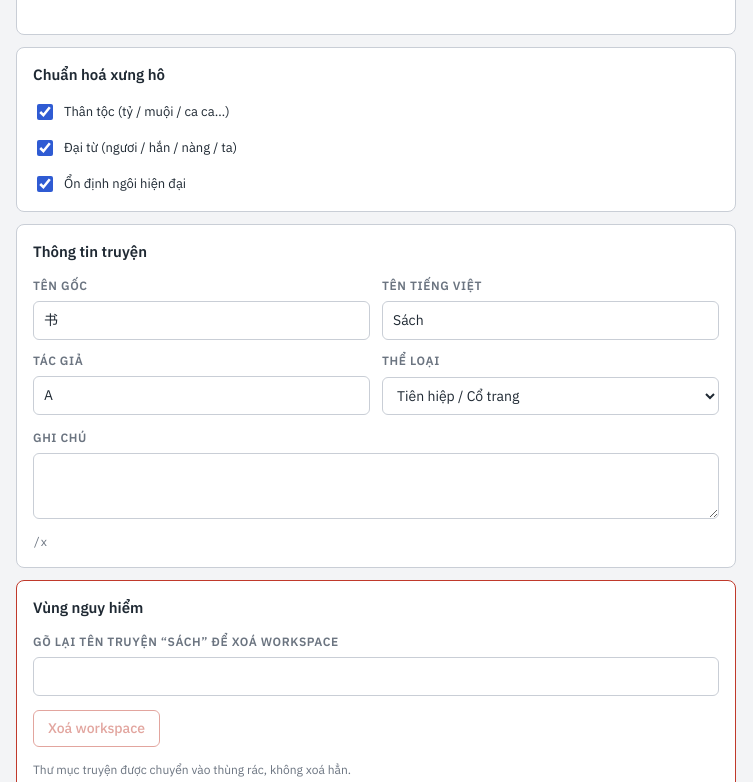
Scenario: đổi thể loại (ảnh hưởng tự chọn route) cũng hiện banner áp lại
(page scrolled)
Select "Đô thị / Hiện đại" in the dropdown labelled "Thể loại": (550, 396) [382, 377, 719, 415]
Wait 500 ms
(page scrolled)
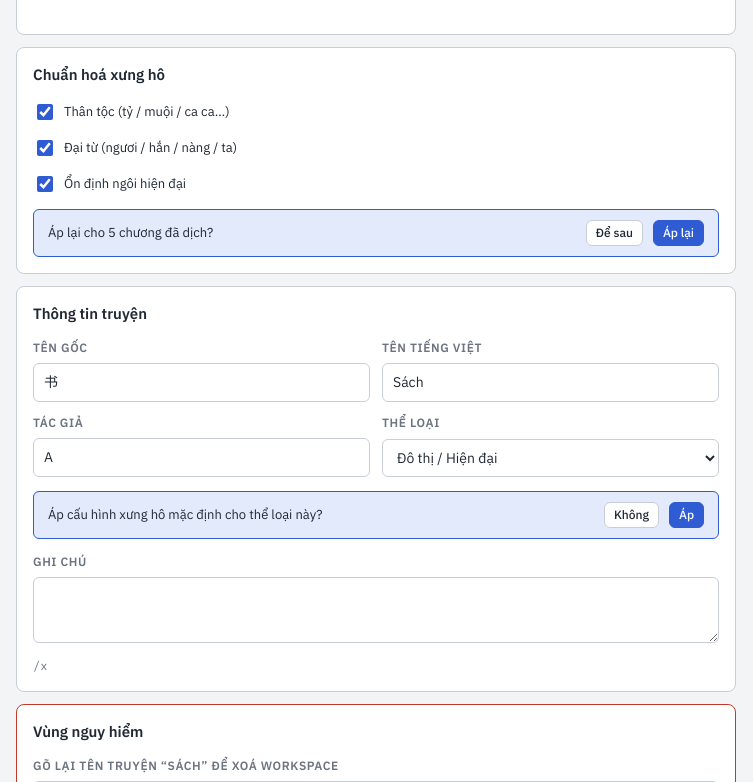
Check: the text "Áp lại cho 5 chương đã dịch?" is shown, box [48, 224, 213, 241]
